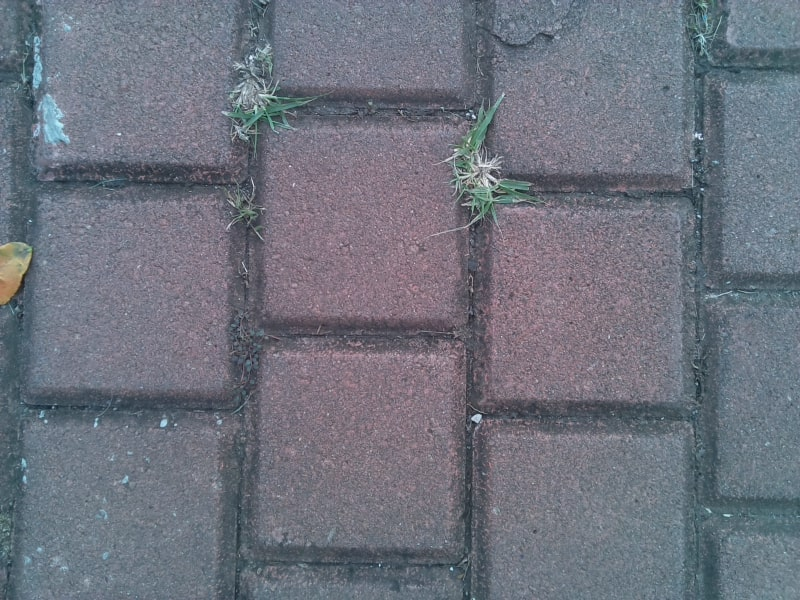Weed: (446, 94, 533, 221), (226, 51, 312, 141), (227, 182, 269, 240), (691, 10, 727, 66)
